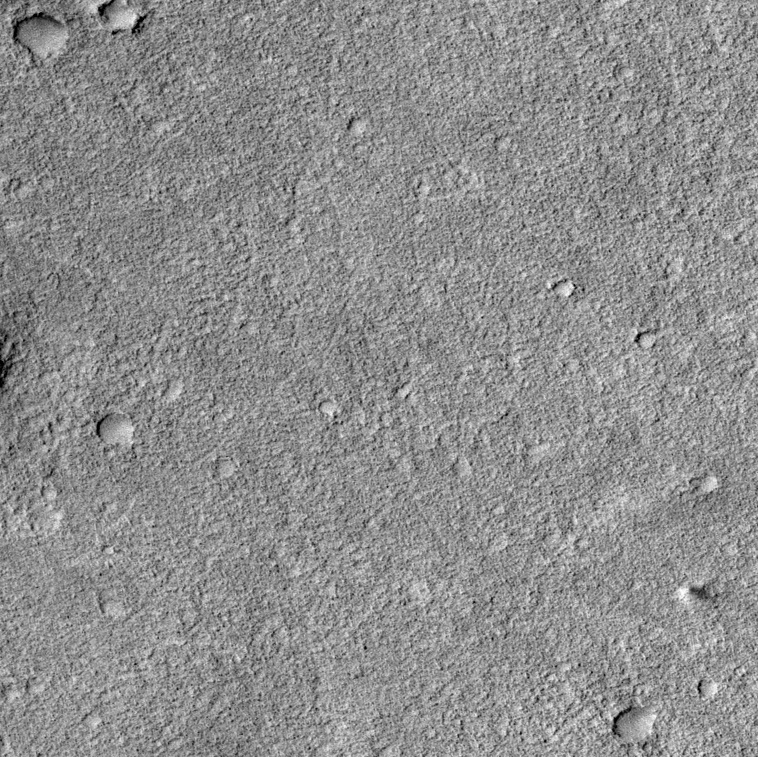dust_devil: (674, 583, 718, 605)
